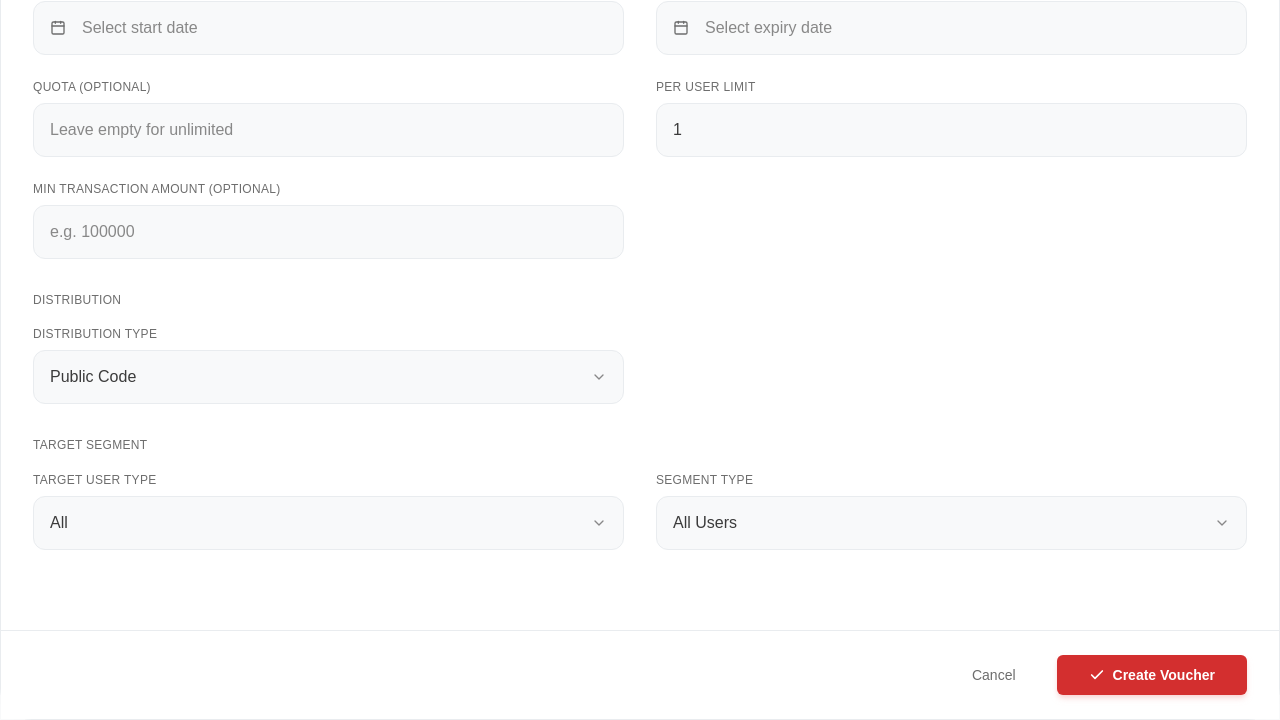
Test: VoucherCreatePage › distribution_type controls code field visibility › shows code field when distribution_type is both
(page scrolled)
Click the button with id "distribution_type" at (93, 377), box [33,350,624,404]
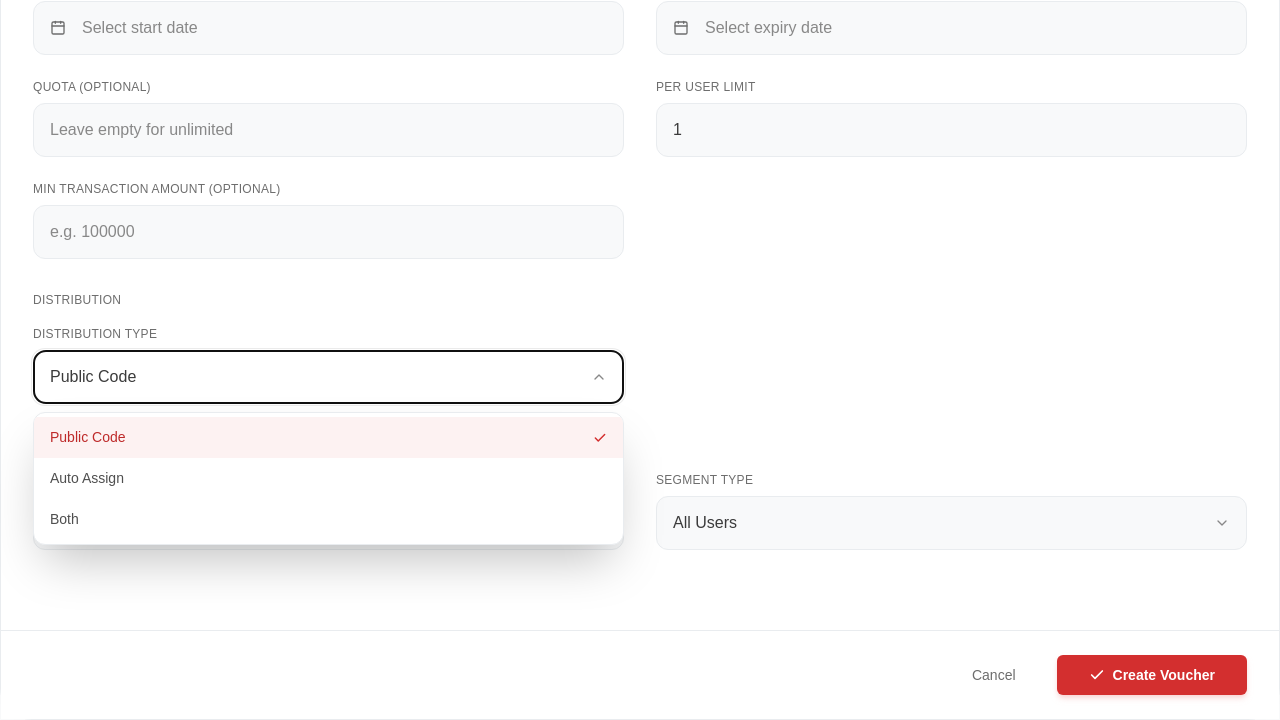
Click the option "Auto Assign" at (87, 478), box [50,470,124,486]
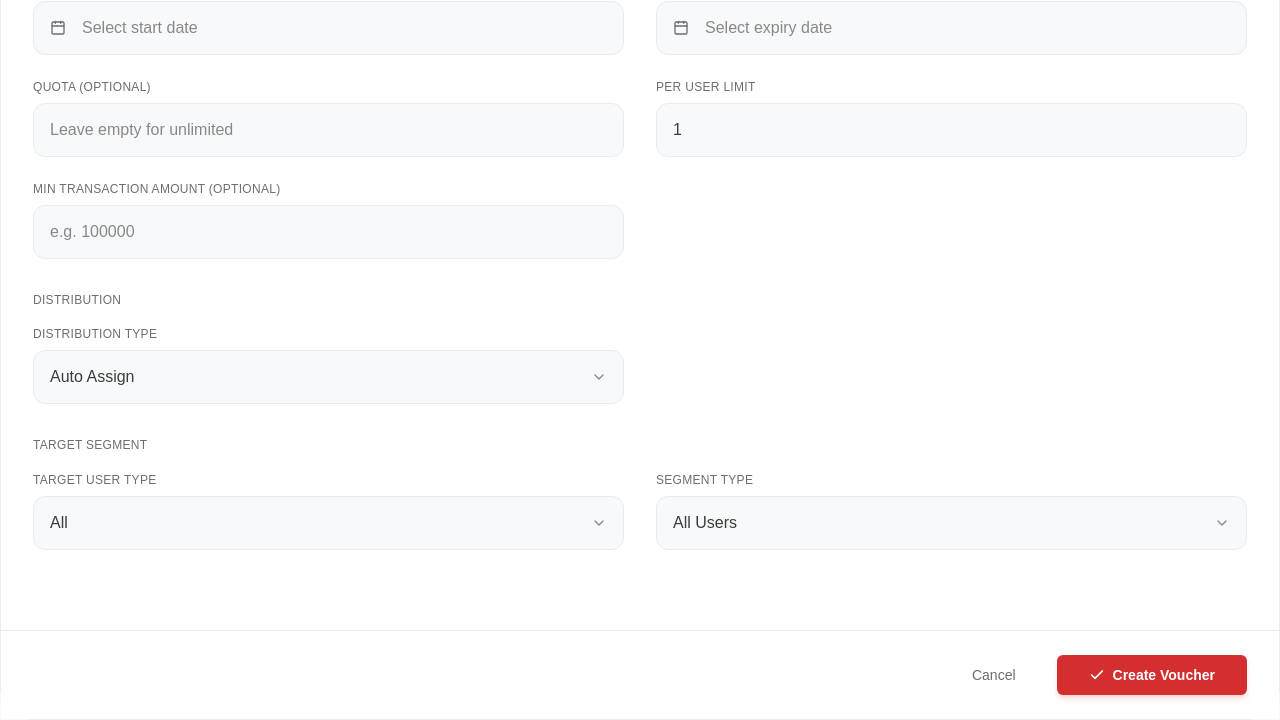
Click the button with id "distribution_type" at (92, 377), box [33,350,624,404]
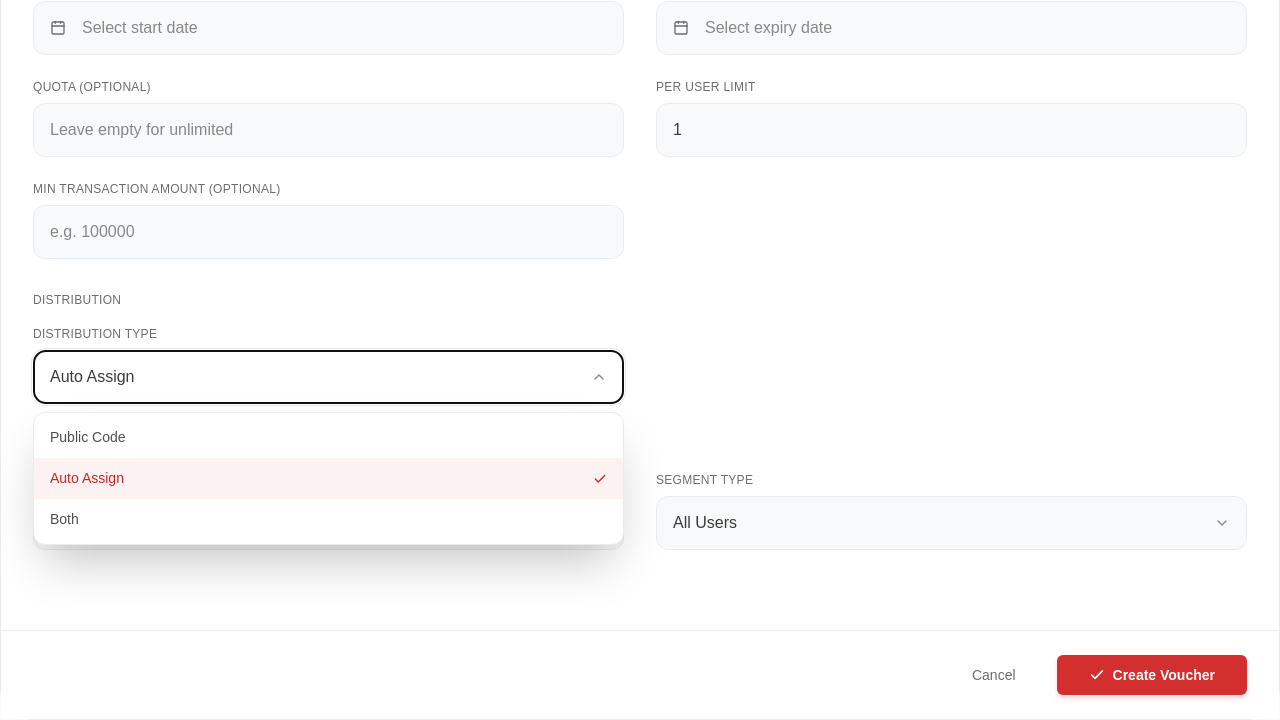
Click the option "Both" at (64, 519), box [50,511,79,527]
(page scrolled)
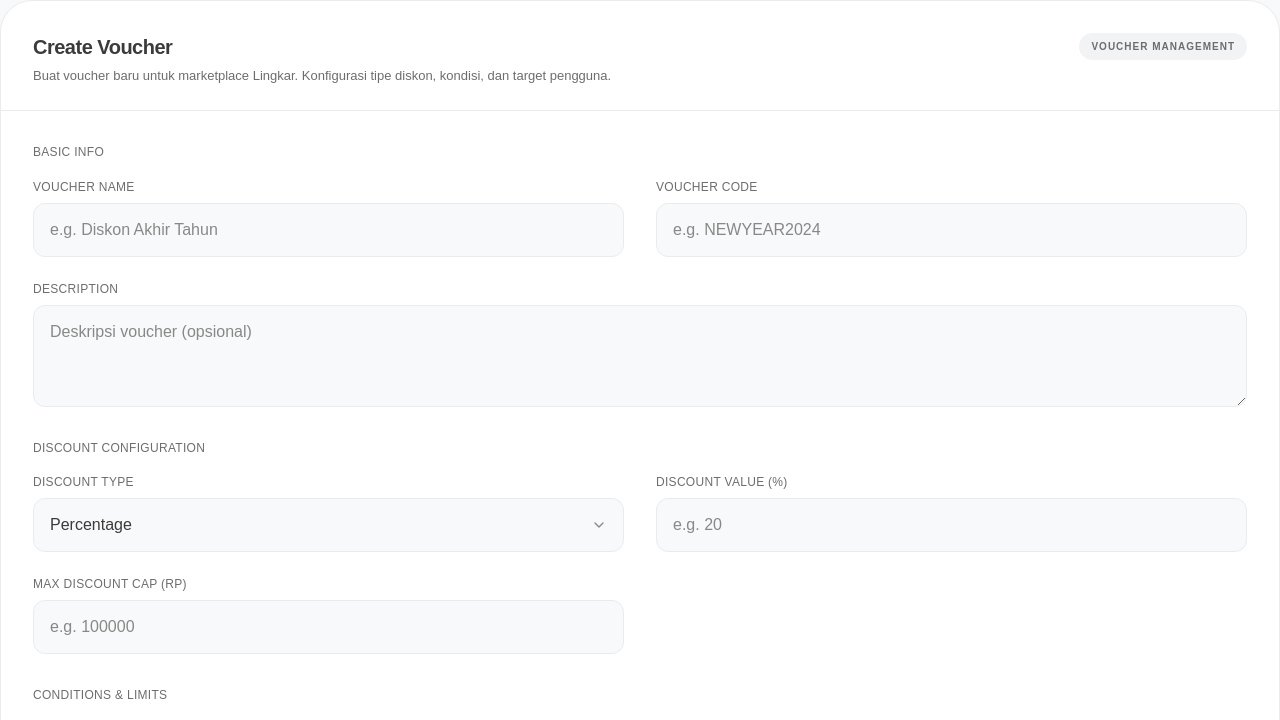
Now the field labelled "Voucher Code" is shown, box [657,204,1246,256]
